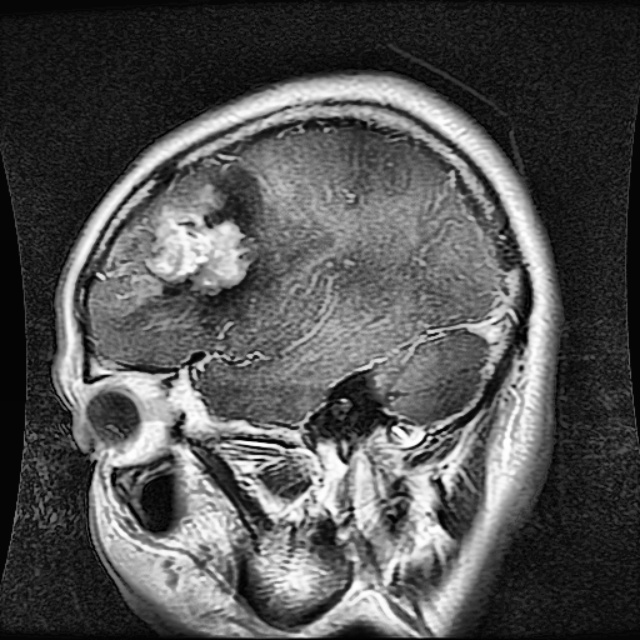Meningioma: (144, 205, 254, 289)
